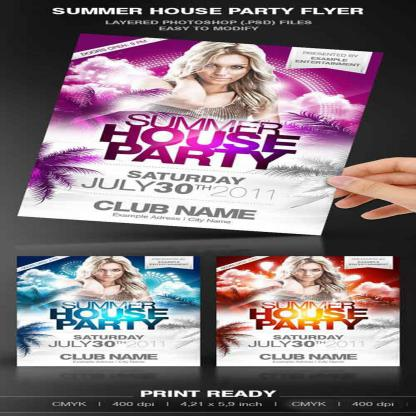face: (196, 57, 250, 86), (93, 265, 124, 283), (294, 264, 324, 282)
